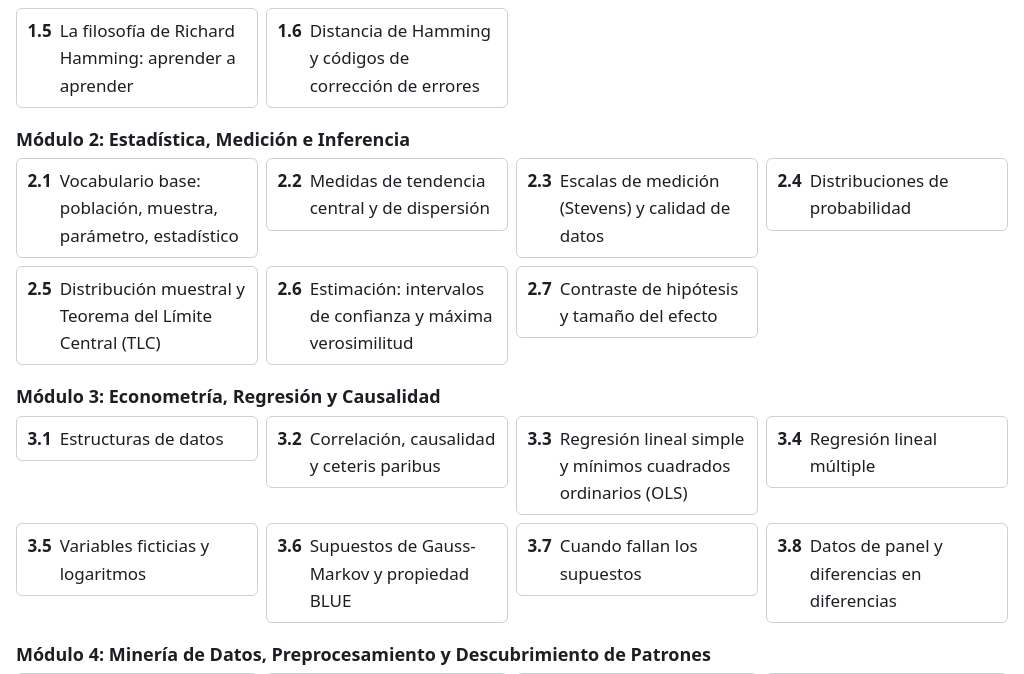
it: mapa de conceptos › una sección cargada ofrece "Abrir sección"
The image size is (1024, 674).
(page scrolled)
Click the 12th button with class "node" at (387, 316), box x1=266 y1=266 x2=508 y2=365
(page scrolled)
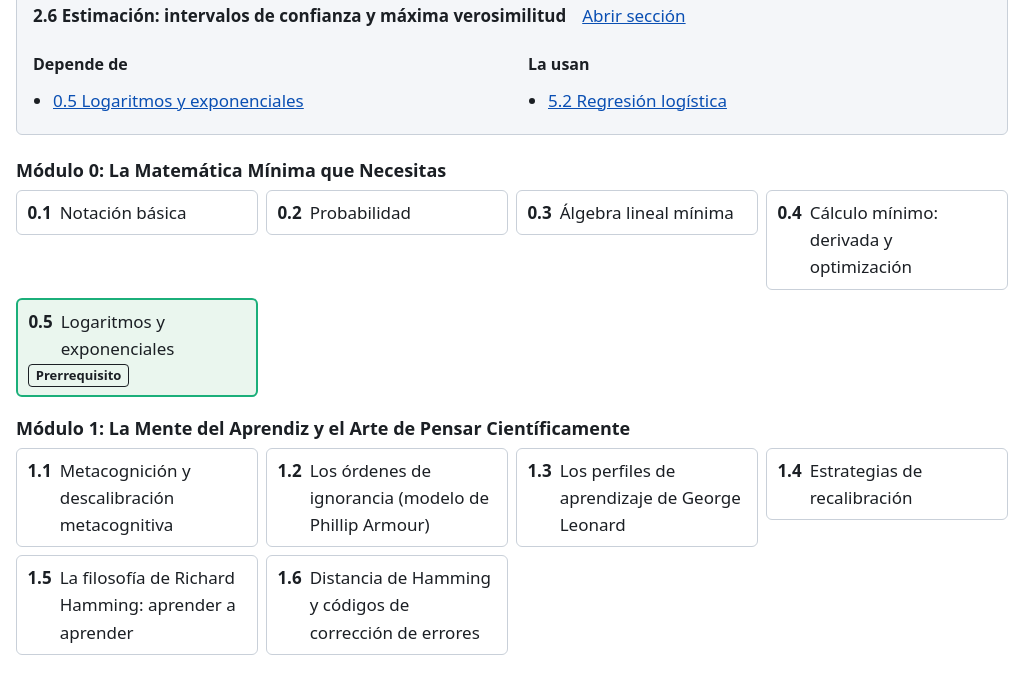
Result: the link "Abrir sección" is shown at x1=582 y1=4 x2=686 y2=27
Result: the element with class "detail" shows "0.5 Logaritmos y exponenciales" at x1=53 y1=78 x2=304 y2=122
Result: the element with class "detail" shows "5.2 Regresión logística" at x1=548 y1=78 x2=727 y2=122
